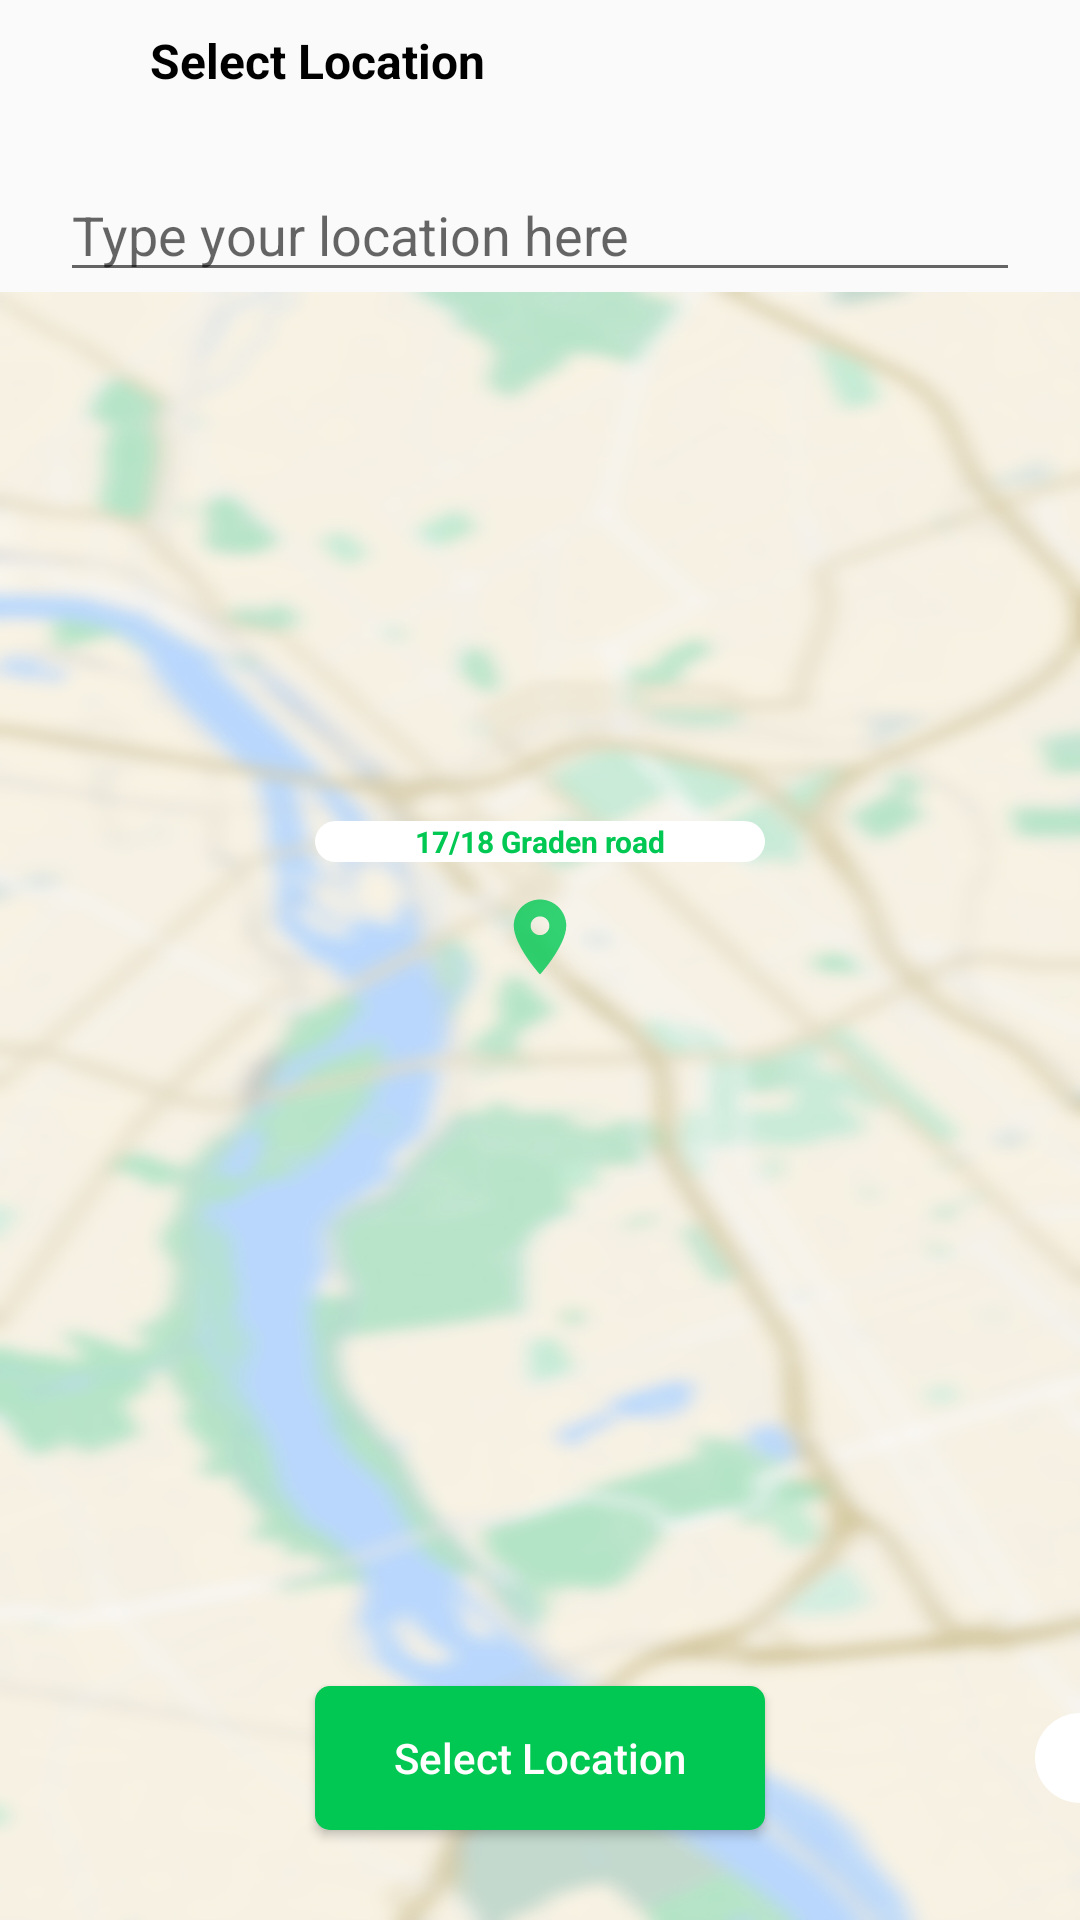

Icons on this 1080*1920 Android screen, each with its box as (x1, y1, x2, y2):
pointingicon: (505, 899, 582, 982)
